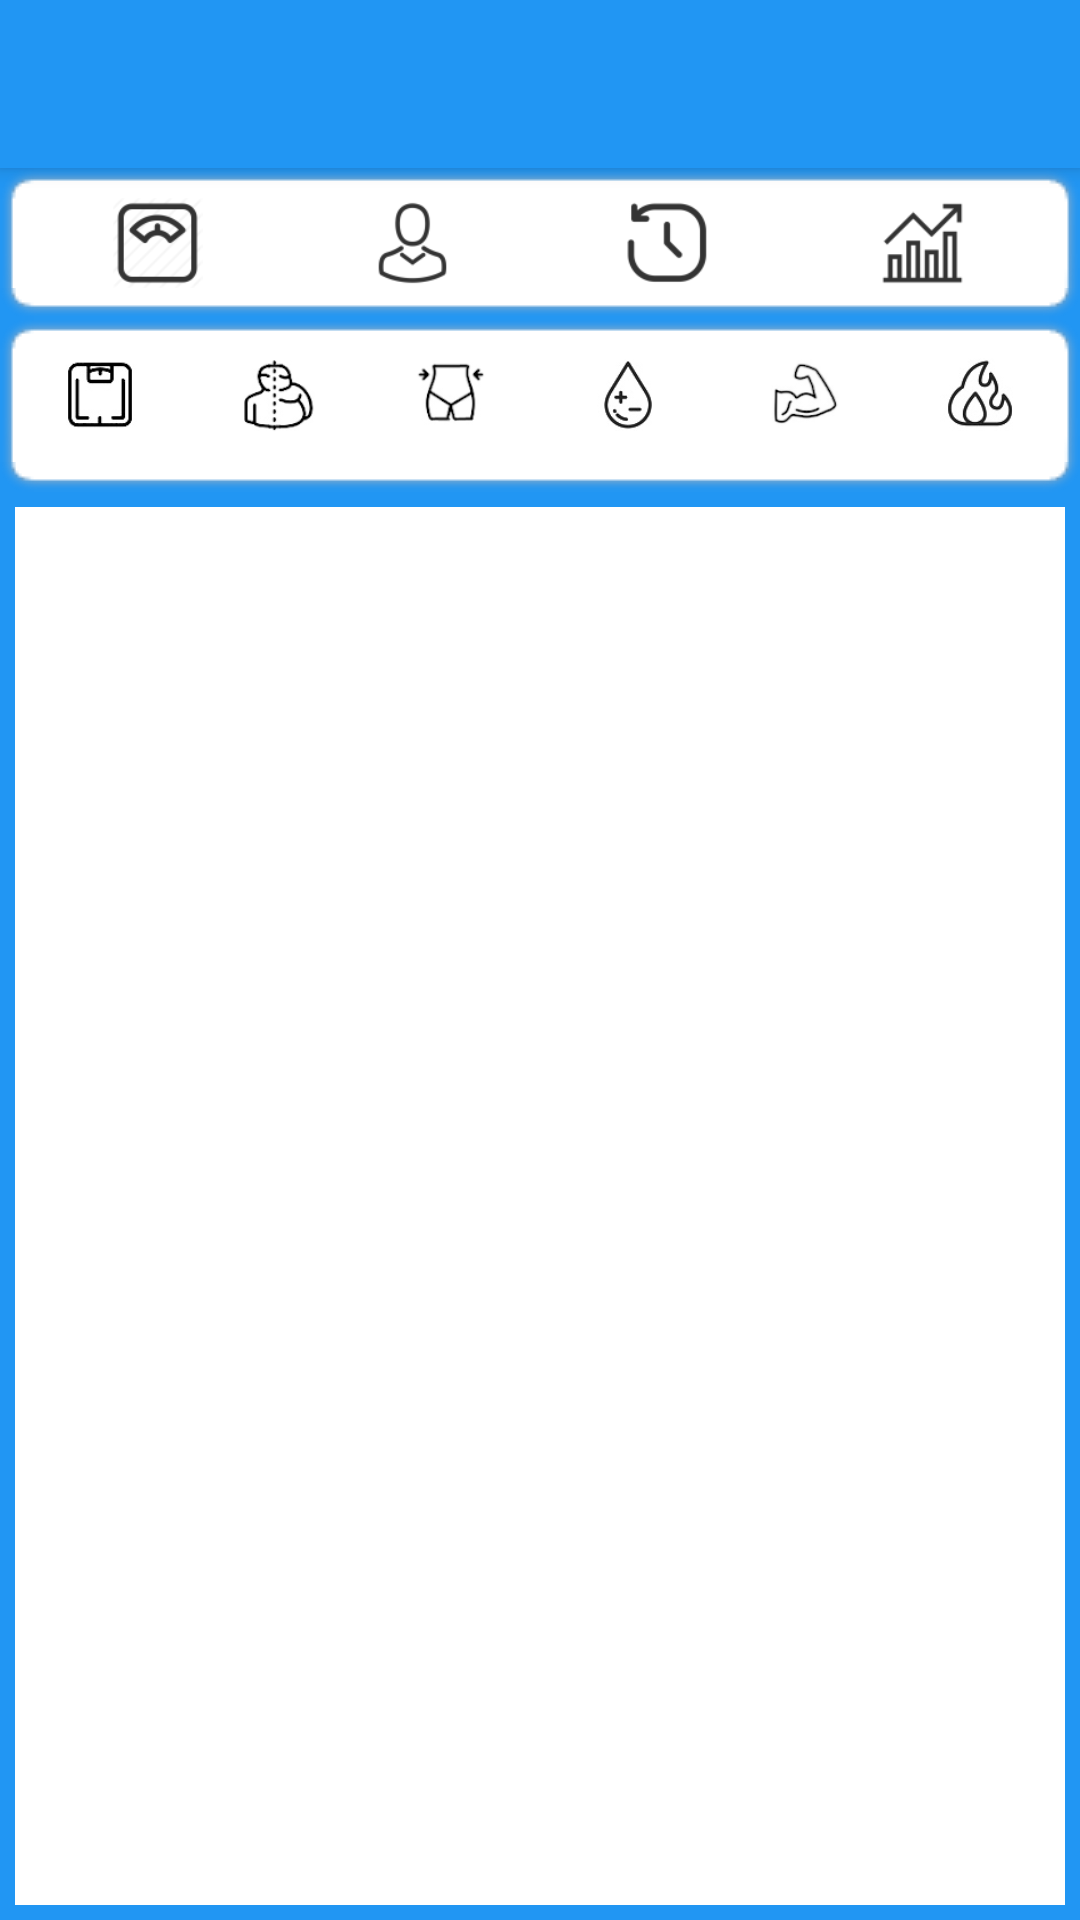

Named icons in this screenshot (1080 x 1920) and their centers, (x,y):
history: (667,242)
re bfr: (451,392)
re bmi: (279,395)
re calorie: (980,393)
re muscle: (805,393)
re water: (628,395)
re weight: (100,394)
scale: (157,243)
trend: (922,243)
user: (412,243)
